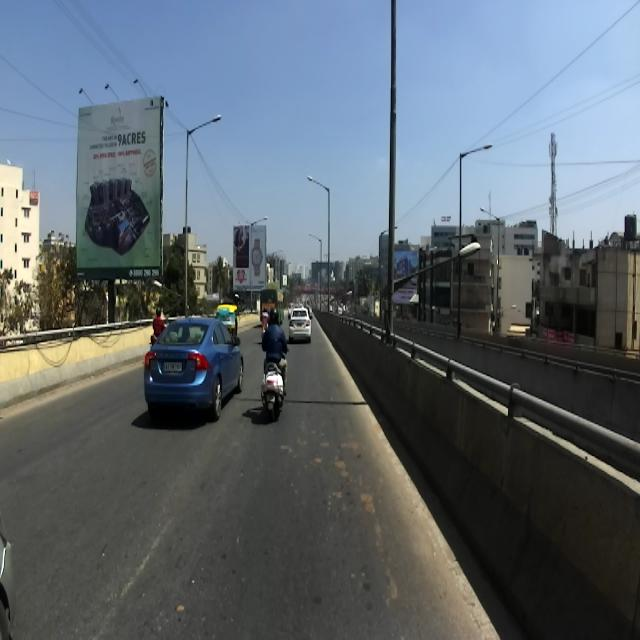car ahead at: (144, 308, 246, 426)
motorcycle ahead at: (260, 354, 292, 415)
